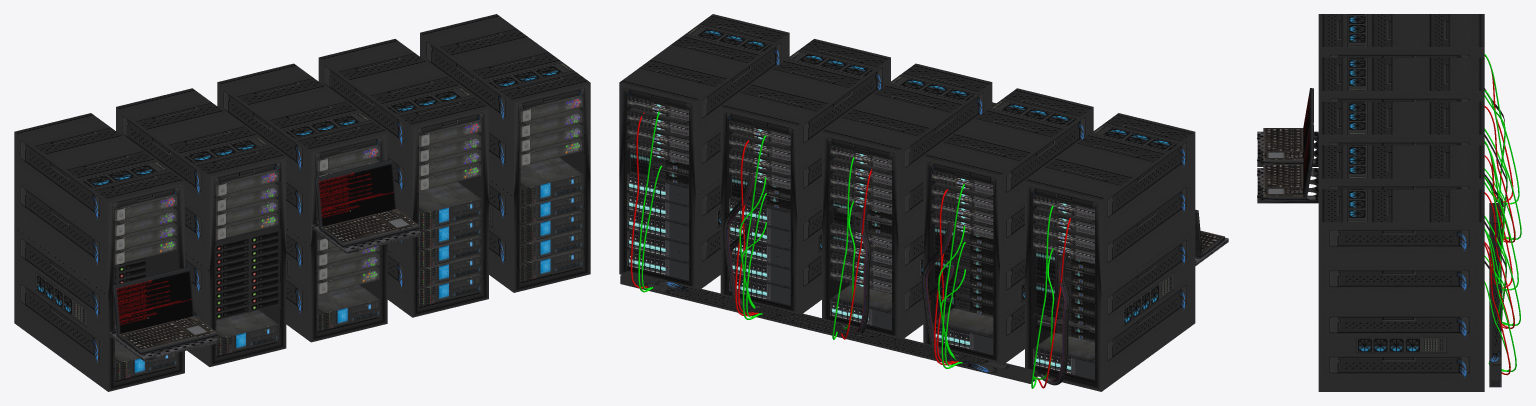
File: Super-Computer.dae
The picture shows the model from 3 angles, left to right: view 1: azimuth 30°, elevation 25°; view 2: azimuth 150°, elevation 25°; view 3: azimuth 270°, elevation 25°; orthographic projection. The views are drawn at different scales.
Parts seen in each view (by area): view 1: Super camputer (1); view 2: Super camputer (1); view 3: Super camputer (1).
Boxes of the visible parts, left/top/right/bottom form: Super camputer (1): left=14, top=14, right=590, bottom=391; Super camputer (1): left=619, top=14, right=1228, bottom=391; Super camputer (1): left=1257, top=14, right=1521, bottom=391.
Bounding box in the file's own units: 340 × 183 × 129.
Materials: 1 (1 with a texture image).
